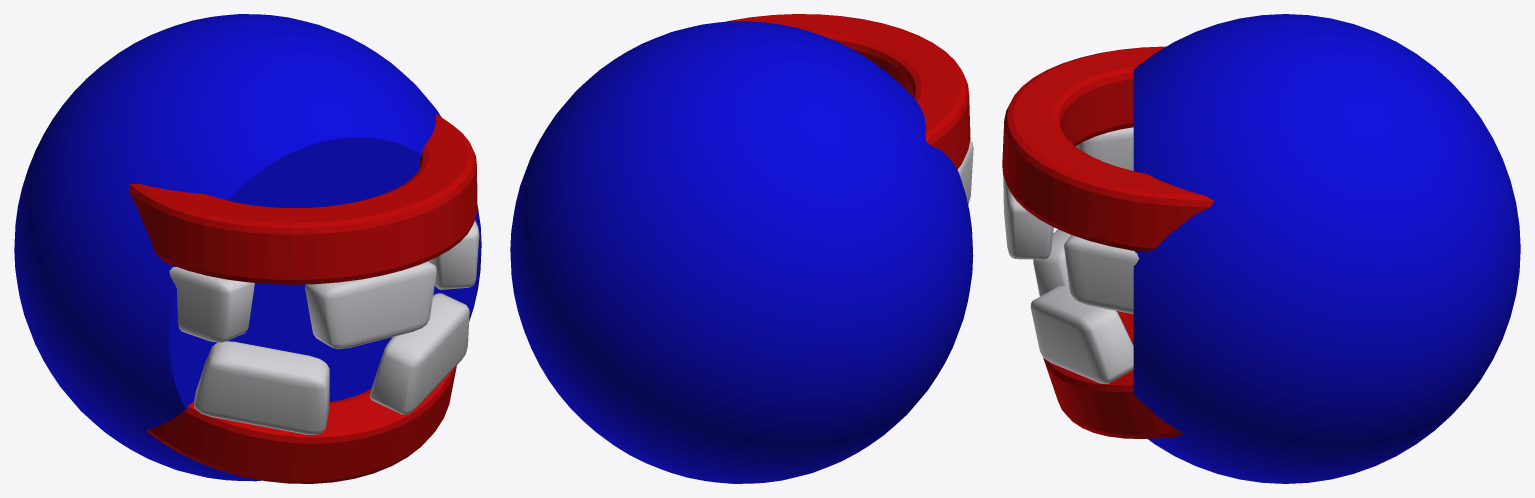
3 renders of one model, left to right at view 1: azimuth 30°, elevation 25°; view 2: azimuth 150°, elevation 25°; view 3: azimuth 270°, elevation 25°, orthographic.
Visible parts, largest first — view 1: ballsphere, gum_up, gum_lo, tl1, tu1, tl2, tu0, tu2; view 2: ballsphere, gum_up, tu0; view 3: ballsphere, gum_up, tl2, gum_lo, tu2, tu1, tu0, tl1.
Boxes of the visible parts, x1,y1,x2,y2 form: ballsphere: (14,14,481,481); gum_up: (129,114,477,284); gum_lo: (147,365,456,483); tl1: (193,341,329,434); tu1: (305,261,436,349); tl2: (370,293,469,414); tu0: (169,267,254,342); tu2: (428,220,479,289); ballsphere: (510,21,973,483); gum_up: (725,14,970,169); tu0: (957,140,973,204); ballsphere: (1133,14,1520,483); gum_up: (1002,46,1214,252); tl2: (1030,286,1133,383); gum_lo: (1043,311,1183,438); tu2: (1064,235,1139,313); tu1: (1003,176,1053,259); tu0: (1075,127,1133,170); tl1: (1033,229,1070,296).
Size of the model in its own units: 1.14 by 1.14 by 1.25.
